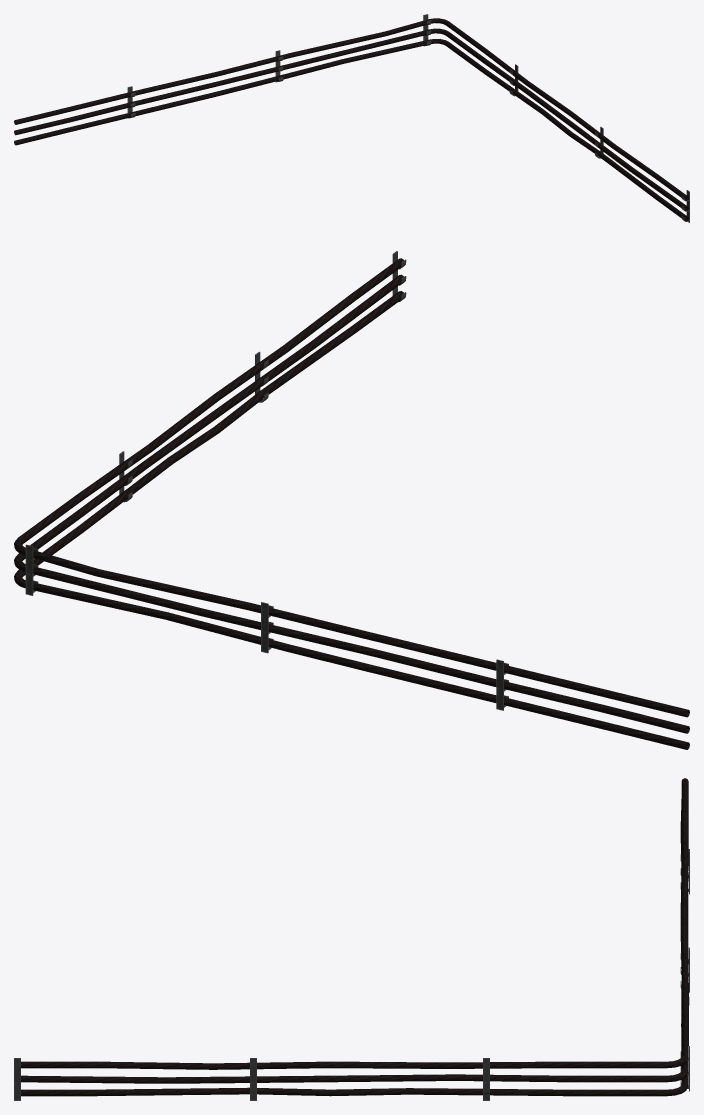
Rendered from Cables__corner_inside.fbx.
The picture shows the model from 3 angles, top to bottom: view 1: azimuth 30°, elevation 25°; view 2: azimuth 150°, elevation 25°; view 3: azimuth 270°, elevation 25°; orthographic projection. The views are drawn at different scales.
Visible parts, largest first — view 1: Cables__corner_inside; view 2: Cables__corner_inside; view 3: Cables__corner_inside.
Part boxes in pixels (x1,y1,x2,y2): Cables__corner_inside: (14,14,689,222); Cables__corner_inside: (14,251,689,749); Cables__corner_inside: (14,778,689,1100).
Size of the model in its own units: 290 by 20 by 290.
